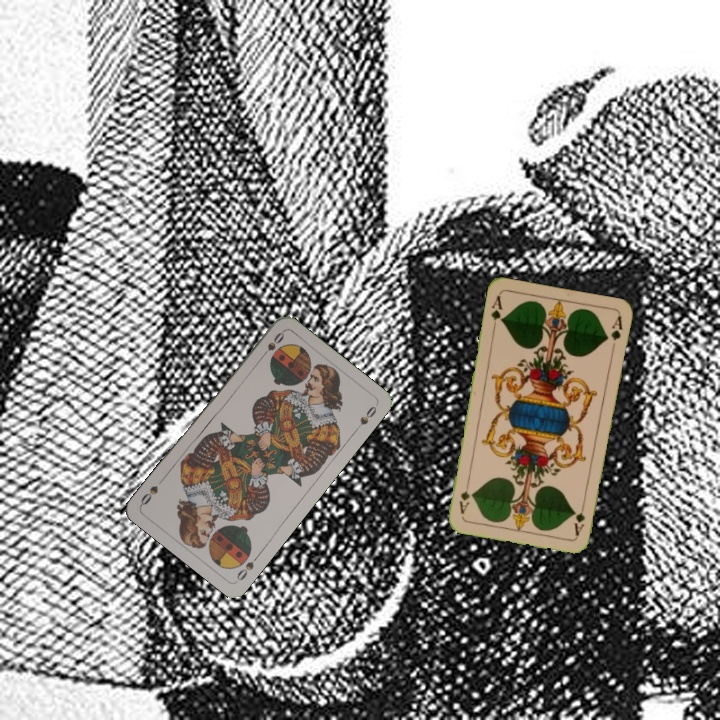GA: (487, 291, 505, 332), (570, 498, 587, 538)
SO: (256, 328, 287, 362), (233, 550, 262, 583)
